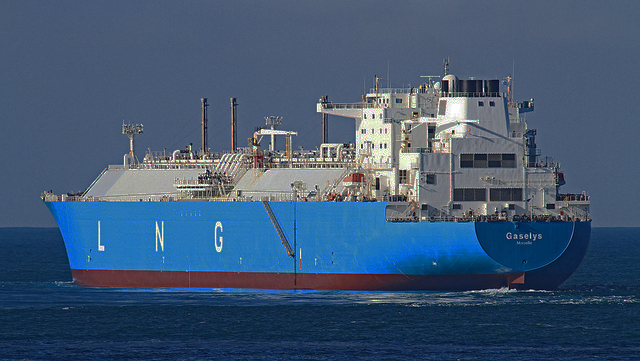LNG_ship: (38, 58, 591, 286)
